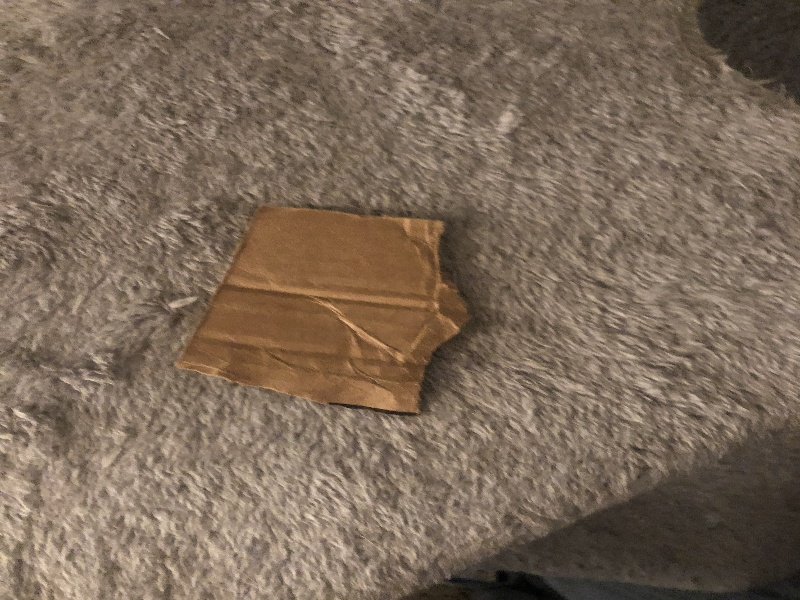cardboard: (175, 202, 485, 420)
